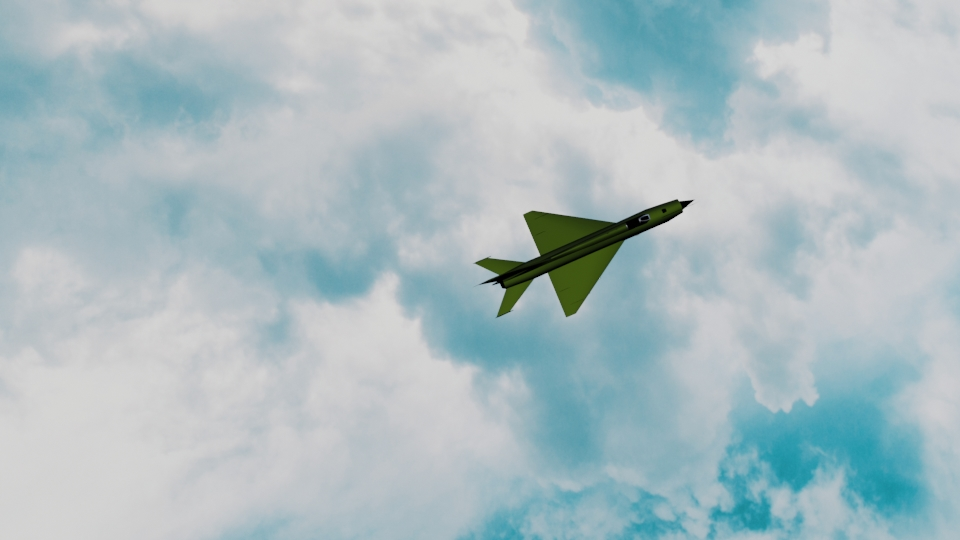plane: (473, 197, 693, 315)
